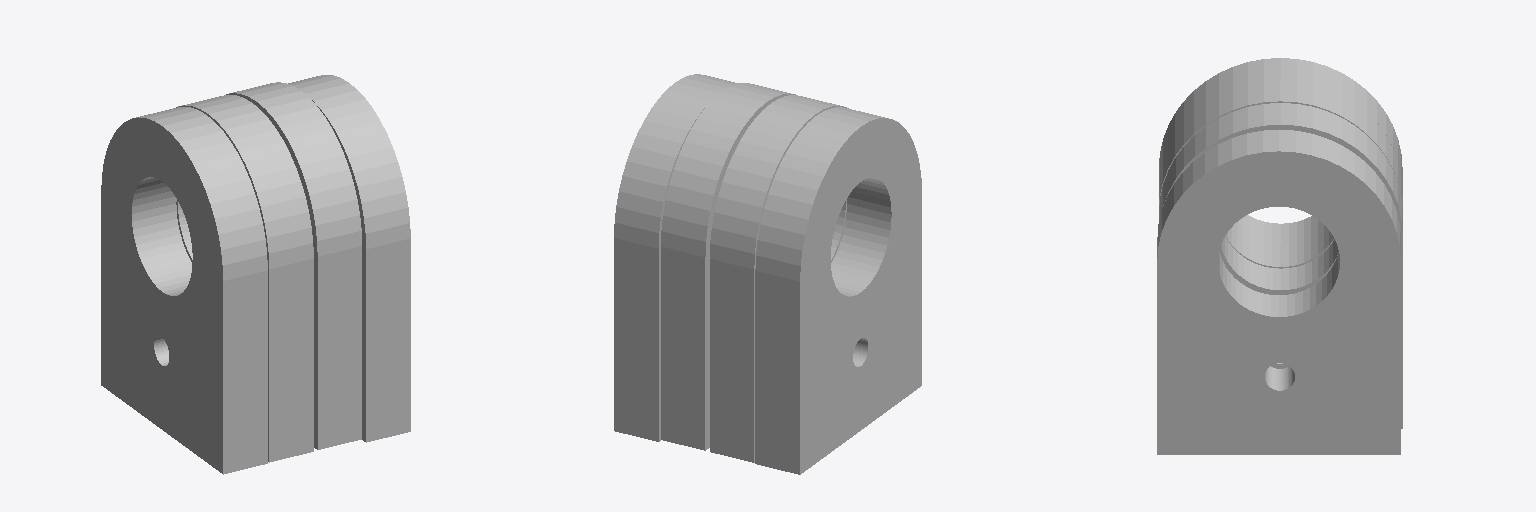
3 renders of one model, left to right at view 1: azimuth 30°, elevation 25°; view 2: azimuth 150°, elevation 25°; view 3: azimuth 270°, elevation 25°, orthographic.
Parts seen in each view (by area): view 1: Mesh.002_Mesh.002_Mesh.049.001, Mesh_Mesh.004_Mesh.049.001, Mesh.003_Mesh.003_Mesh.049.001, Mesh.004_Mesh_Mesh.049_Cur.001; view 2: Mesh.002_Mesh.002_Mesh.049.001, Mesh_Mesh.004_Mesh.049.001, Mesh.004_Mesh_Mesh.049_Cur.001, Mesh.003_Mesh.003_Mesh.049.001; view 3: Mesh.003_Mesh.003_Mesh.049.001, Mesh_Mesh.004_Mesh.049.001, Mesh.004_Mesh_Mesh.049_Cur.001, Mesh.002_Mesh.002_Mesh.049.001.
Part boxes in pixels (x1,y1,x2,y2): Mesh.002_Mesh.002_Mesh.049.001: (101,107,267,474); Mesh_Mesh.004_Mesh.049.001: (226,82,361,449); Mesh.003_Mesh.003_Mesh.049.001: (288,75,410,442); Mesh.004_Mesh_Mesh.049_Cur.001: (176,95,313,462); Mesh.002_Mesh.002_Mesh.049.001: (755,107,921,474); Mesh_Mesh.004_Mesh.049.001: (661,83,795,450); Mesh.004_Mesh_Mesh.049_Cur.001: (710,95,848,462); Mesh.003_Mesh.003_Mesh.049.001: (614,74,737,441); Mesh.003_Mesh.003_Mesh.049.001: (1157,130,1400,454); Mesh_Mesh.004_Mesh.049.001: (1159,103,1402,428); Mesh.004_Mesh_Mesh.049_Cur.001: (1159,80,1401,268); Mesh.002_Mesh.002_Mesh.049.001: (1159,58,1402,244).
Bounding box in the file's own units: 0.8362 × 1.31 × 0.9513.